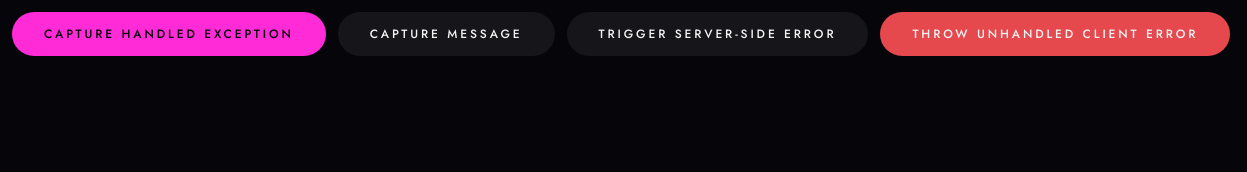
Test: TelemetryTestPanel › captures a message and displays its event id
Click the button "Capture message" at (446, 34), box [338,12,554,56]
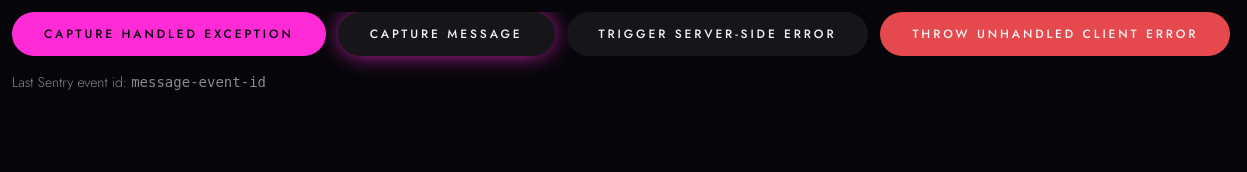
Result: the text "message-event-id" is shown at [131,74,266,90]
